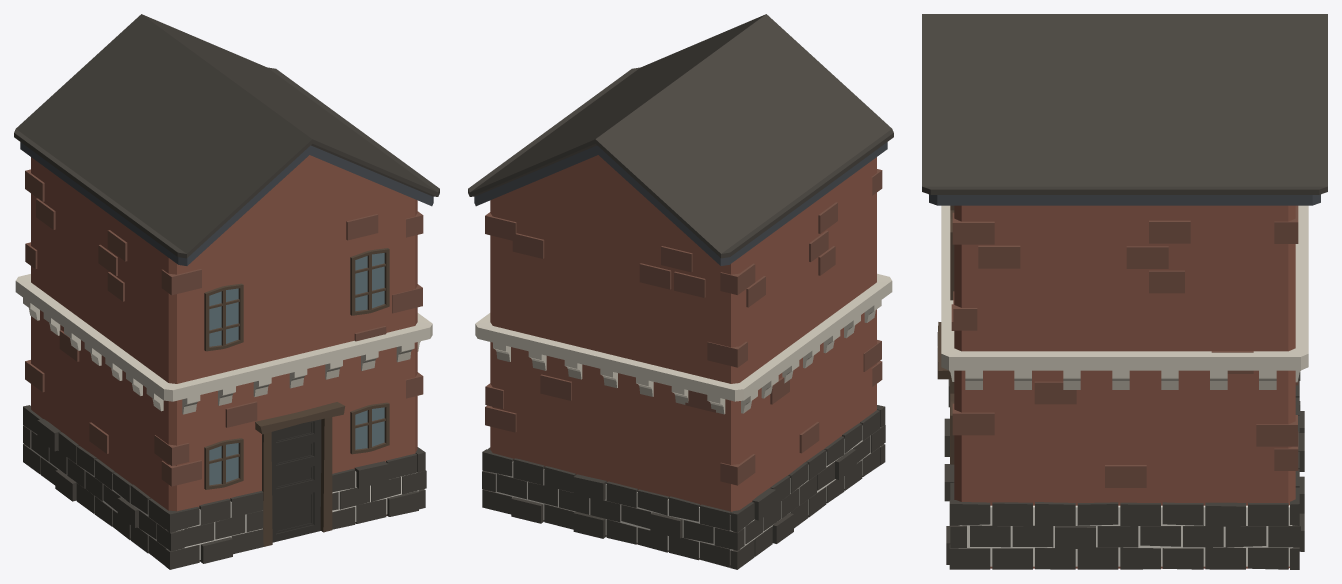
File: london-terrace-a.glb
3 renders of one model, left to right at view 1: azimuth 30°, elevation 25°; view 2: azimuth 150°, elevation 25°; view 3: azimuth 270°, elevation 25°, orthographic. The views are drawn at different scales.
Size of the model in its own units: 2.16 by 3.13 by 2.38.
